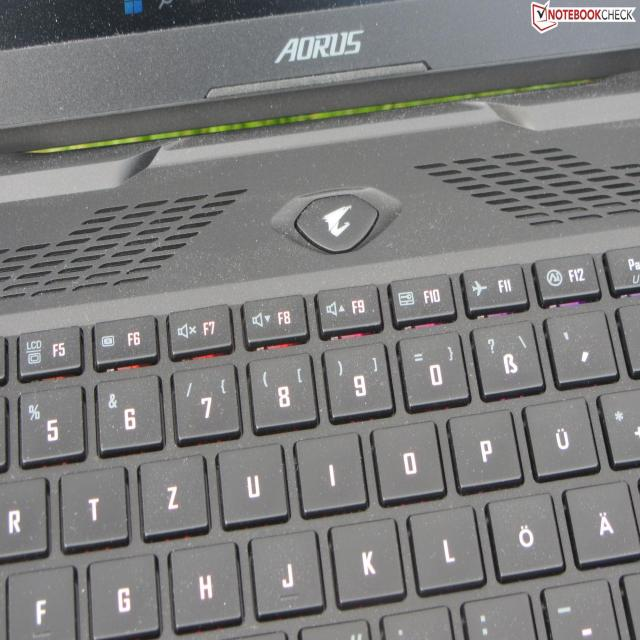0: (397, 328, 469, 411)
5: (17, 384, 89, 467)
6: (92, 371, 165, 454)
7: (169, 359, 241, 443)
8: (246, 349, 318, 432)
9: (321, 338, 394, 421)
accent: (544, 306, 619, 386)
ae: (565, 477, 639, 566)
f: (5, 563, 81, 640)
g: (88, 551, 164, 640)
h: (166, 538, 242, 632)
i: (292, 430, 371, 516)
j: (246, 530, 327, 620)
k: (328, 515, 409, 606)
l: (406, 502, 487, 593)
minus: (539, 577, 619, 639)
o: (370, 420, 448, 505)
oe: (485, 490, 566, 580)
p: (445, 406, 524, 491)
plus: (598, 388, 639, 468)
point: (460, 591, 535, 638)
r: (0, 471, 48, 557)
ss: (469, 317, 545, 398)
t: (55, 467, 133, 552)
u: (215, 441, 289, 527)
ue: (521, 394, 600, 480)
z: (136, 453, 215, 539)
